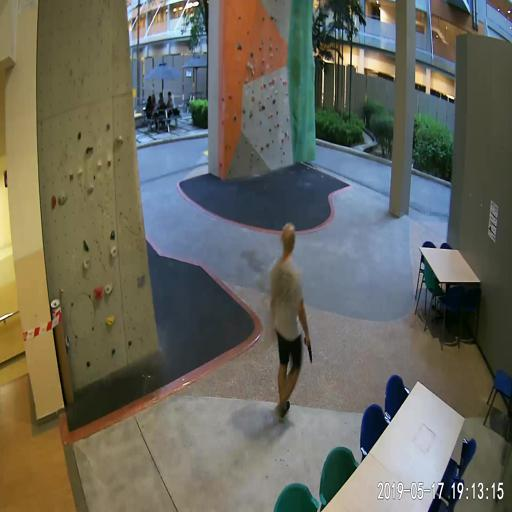pistol: (304, 336, 312, 362)
